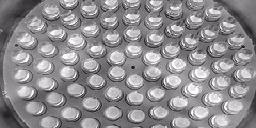LED: (4, 1, 256, 126)
